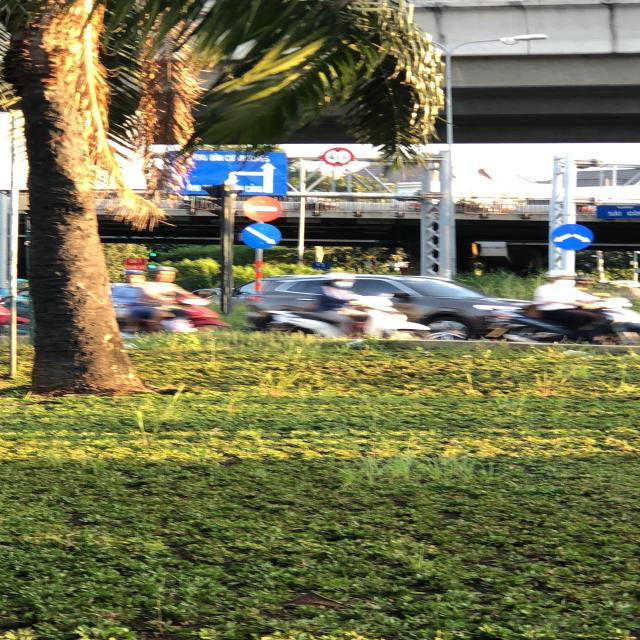Bien bao cam di nguoc chieu: (240, 194, 290, 222), (212, 191, 232, 192)
Bien bao huong phai di vong chuong ngai vat: (237, 220, 285, 251)
